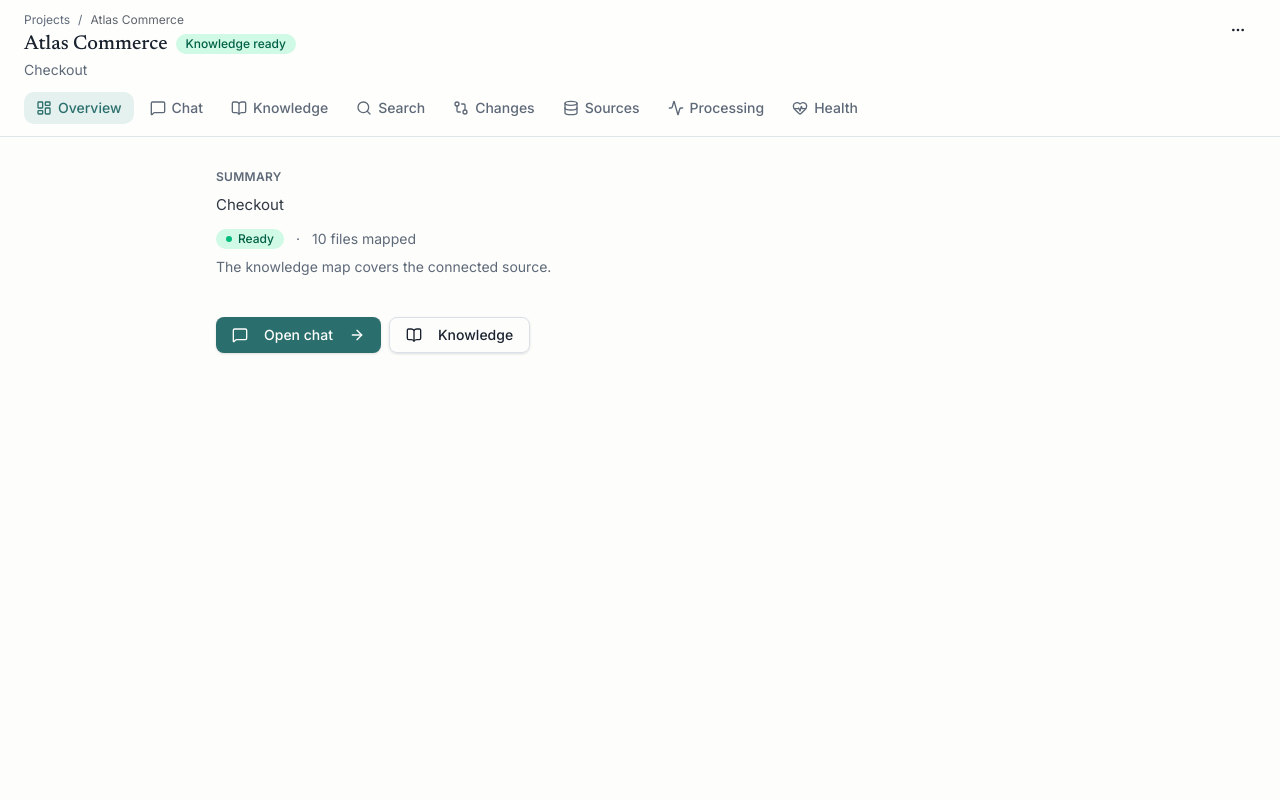
Scenario: ProjectDetailPage › opens delete dialog from the actions menu
The width and height of the screenshot is (1280, 800).
Expected: the heading "Atlas Commerce" is shown, [24, 30, 168, 58]
Click the button named "Actions". click: point(1238, 30)
box: [1220, 12, 1256, 48]
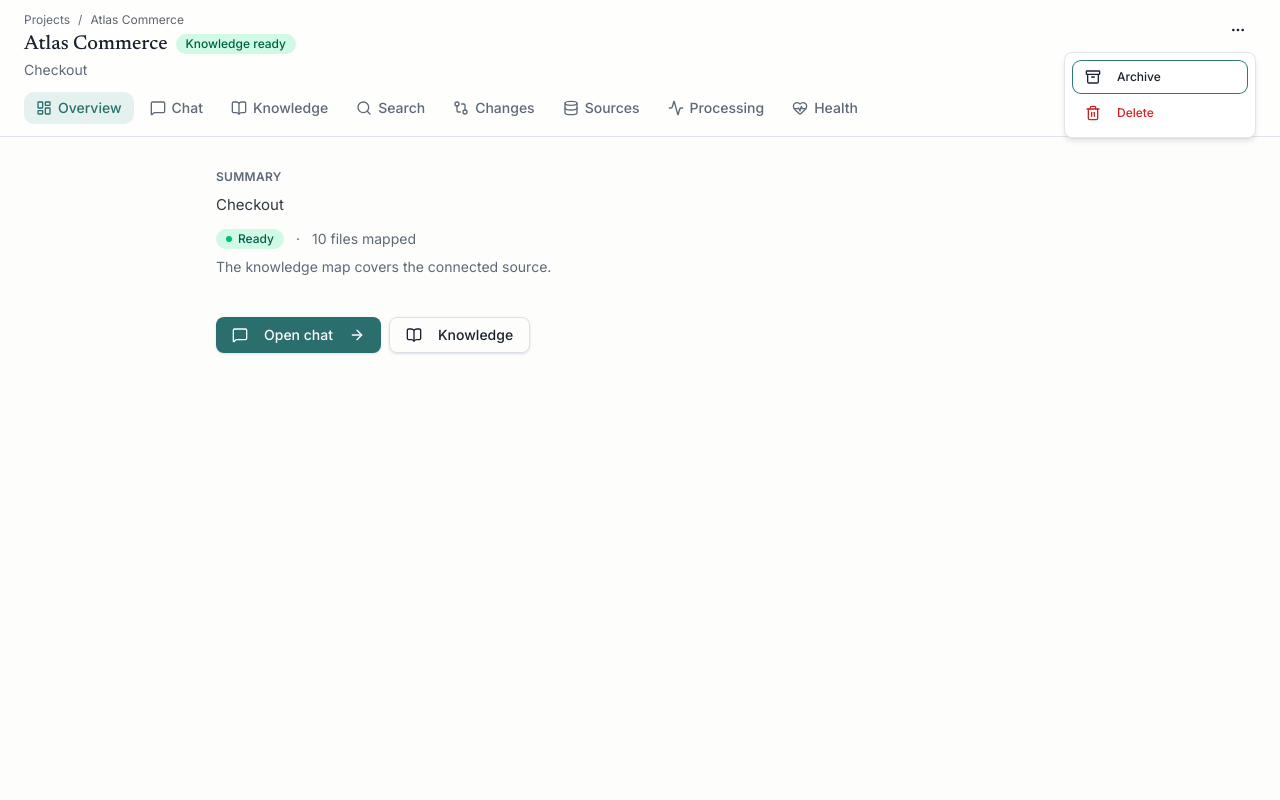
Click the button "Delete". click: point(1160, 113)
box: [1073, 97, 1247, 129]
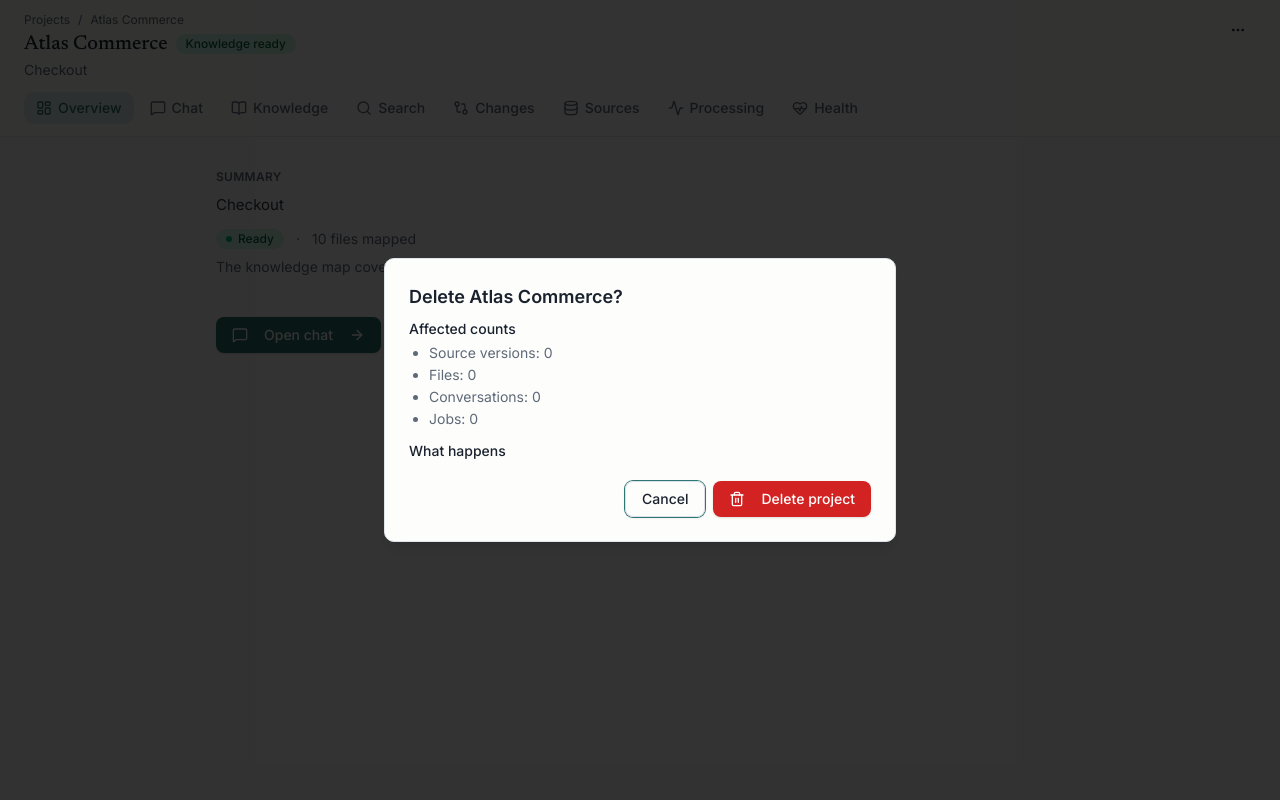
Expected: the text "Delete Atlas Commerce" is shown, [409, 286, 623, 307]
